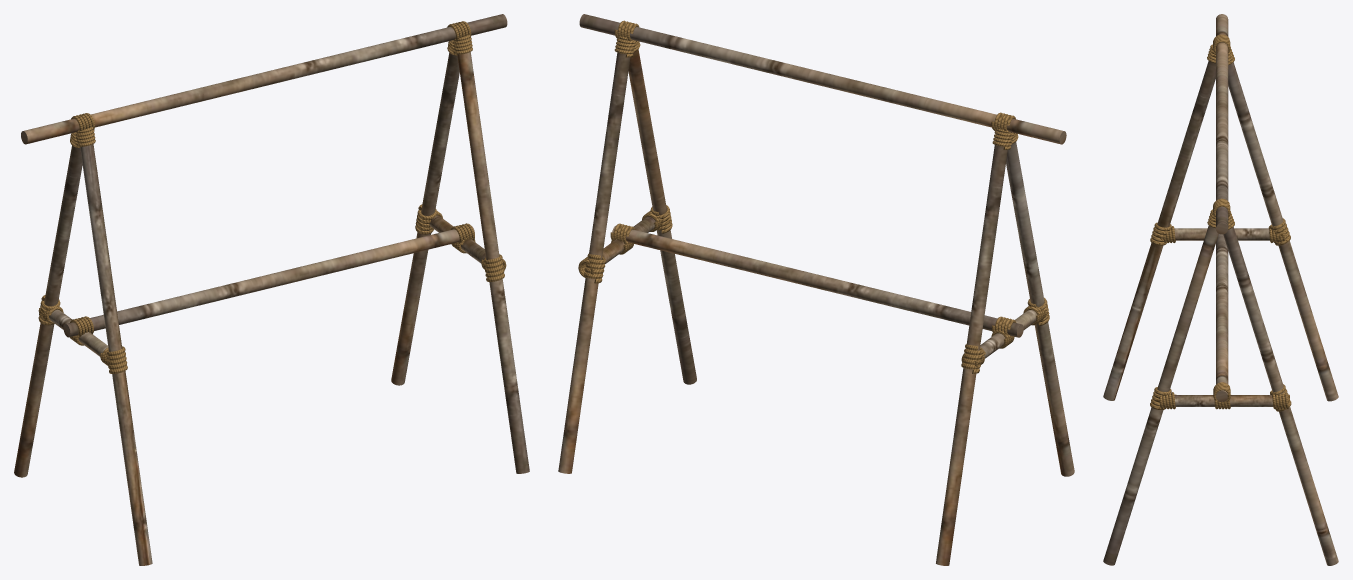
The model's file is Rack.fbx.
3 views of the same model, side by side, from view 1: azimuth 30°, elevation 25°; view 2: azimuth 150°, elevation 25°; view 3: azimuth 270°, elevation 25° (orthographic). The views are drawn at different scales.
Visible parts, largest first — view 1: pHelix19; view 2: pHelix19; view 3: pHelix19.
Boxes of the visible parts, x1=… form: pHelix19: x1=14, y1=14, x2=529, y2=565; pHelix19: x1=558, y1=14, x2=1074, y2=565; pHelix19: x1=1103, y1=14, x2=1338, y2=565.
Size of the model in its own units: 2 by 1.62 by 0.9512.
2 materials, 2 textured.
